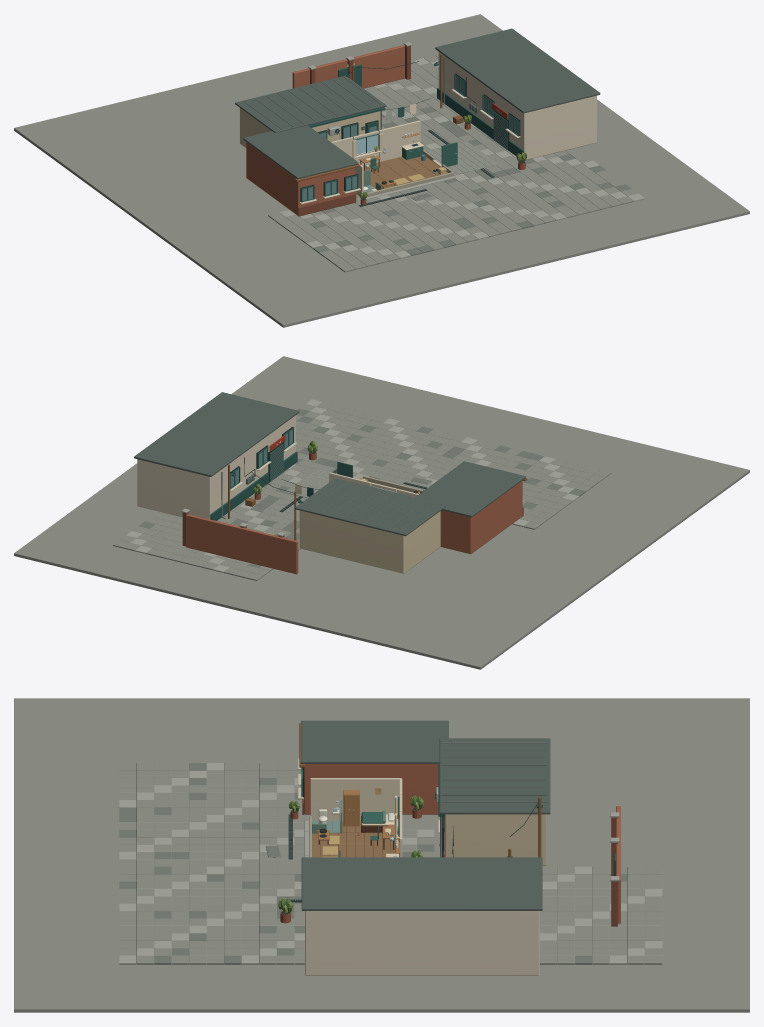
Rendered from HomeWorld.fbx.
The picture shows the model from 3 angles, top to bottom: view 1: azimuth 30°, elevation 25°; view 2: azimuth 150°, elevation 25°; view 3: azimuth 270°, elevation 25°; orthographic projection. The views are drawn at different scales.
Visible parts, largest first — view 1: ENV_continuous_ground, ENV_opposite roof, ENV_opposite body, ENV_rear roof, ENV_west roof, ENV_west neighbour, ENV_back junction wall, ENV_rear neighbour body, north right wall, ENV_opposite low band, ENV_west front plinth; view 2: ENV_continuous_ground, ENV_opposite roof, ENV_opposite body, ENV_rear neighbour body, ENV_rear roof, ENV_back junction wall, ENV_west roof, ENV_west neighbour, ENV_opposite low band; view 3: ENV_continuous_ground, ENV_opposite body, ENV_opposite roof, ENV_rear roof, ENV_west roof, ENV_rear neighbour body, ENV_west neighbour, west wall.
Part boxes in pixels (x1,y1,x2,y2): ENV_continuous_ground: (14,14,749,327); ENV_opposite roof: (435,28,600,113); ENV_opposite body: (438,52,596,159); ENV_rear roof: (235,75,386,132); ENV_west roof: (243,125,358,179); ENV_west neighbour: (246,142,355,215); ENV_back junction wall: (292,45,404,88); ENV_rear neighbour body: (239,108,380,147); north right wall: (378,120,420,161); ENV_opposite low band: (437,88,524,155); ENV_west front plinth: (298,193,356,216); ENV_continuous_ground: (14,356,749,669); ENV_opposite roof: (134,392,299,476); ENV_opposite body: (137,415,295,519); ENV_rear neighbour body: (299,510,440,573); ENV_rear roof: (295,478,446,536); ENV_back junction wall: (186,514,298,574); ENV_west roof: (415,461,525,517); ENV_west neighbour: (440,480,522,554); ENV_opposite low band: (210,451,297,520); ENV_continuous_ground: (14,698,749,1012); ENV_opposite body: (305,911,539,975); ENV_opposite roof: (301,857,542,910); ENV_rear roof: (439,738,550,814); ENV_west roof: (301,720,448,763); ENV_rear neighbour body: (445,814,546,865); ENV_west neighbour: (304,764,438,814); west wall: (310,778,400,821).
Size of what is drawn, in the model's own units: 42 by 4.97 by 42.
